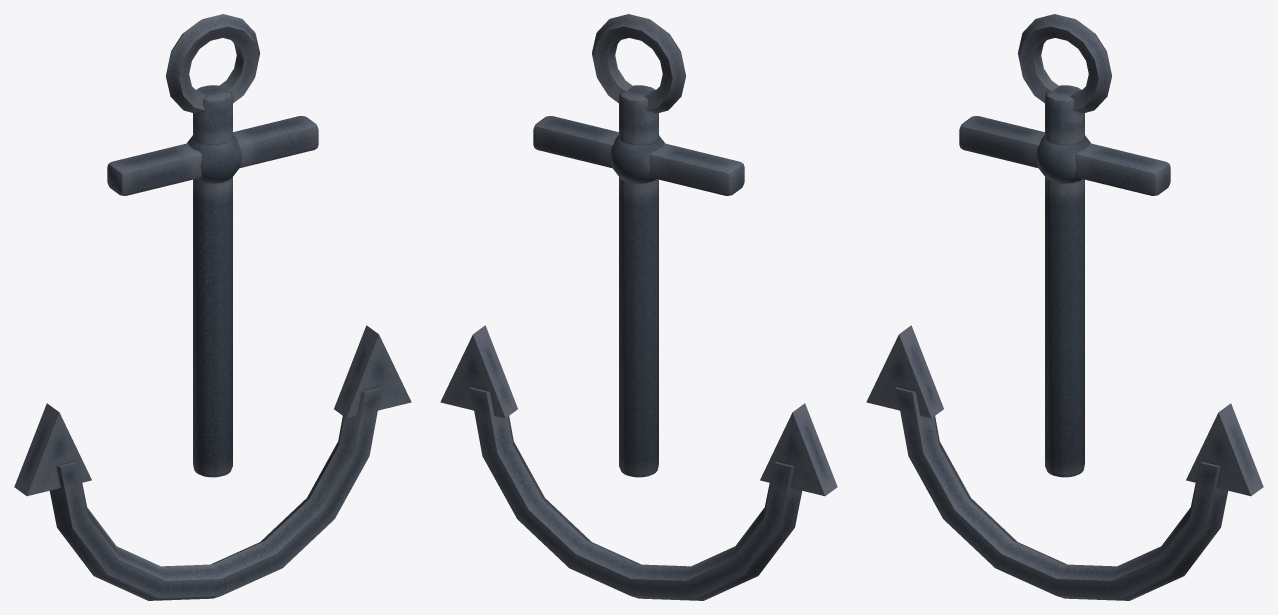
Rendered from Anchor.fbx.
The picture shows the model from 3 angles, left to right: view 1: azimuth 30°, elevation 25°; view 2: azimuth 150°, elevation 25°; view 3: azimuth 330°, elevation 25°; orthographic projection.
Visible parts, largest first — view 1: Anchor; view 2: Anchor; view 3: Anchor.
Boxes of the visible parts, x1,y1,x2,y2 form: Anchor: [14, 14, 411, 600]; Anchor: [440, 14, 837, 600]; Anchor: [866, 14, 1263, 600].
Size of the model in its own units: 1.06 by 1.53 by 0.14.
